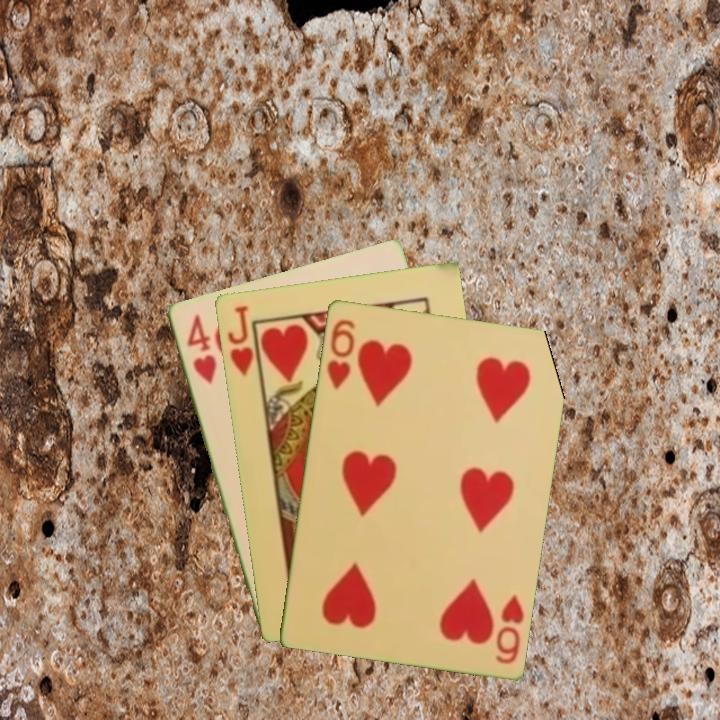4h: (183, 310, 219, 387)
6h: (491, 590, 527, 667), (323, 315, 357, 392)
Jh: (223, 301, 256, 378)
